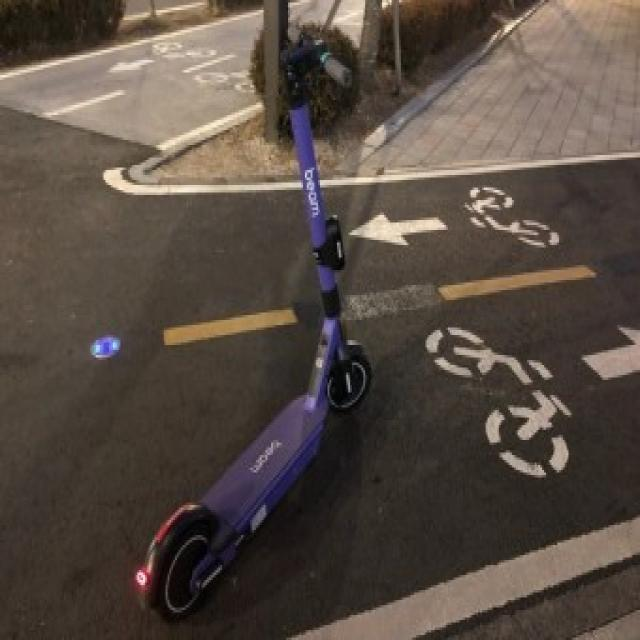bic: (0, 112, 640, 640)
curb: (298, 517, 640, 638), (323, 152, 640, 188), (104, 168, 301, 195)
kick-board: (136, 40, 370, 617)
lane: (438, 266, 596, 300), (164, 309, 298, 345)
sidewalk: (359, 1, 640, 173)
